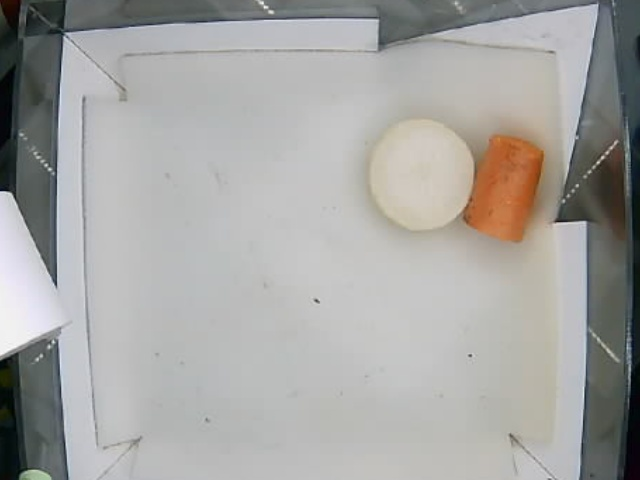Carrot: (464, 132, 543, 244)
Mooli: (372, 117, 475, 230)
